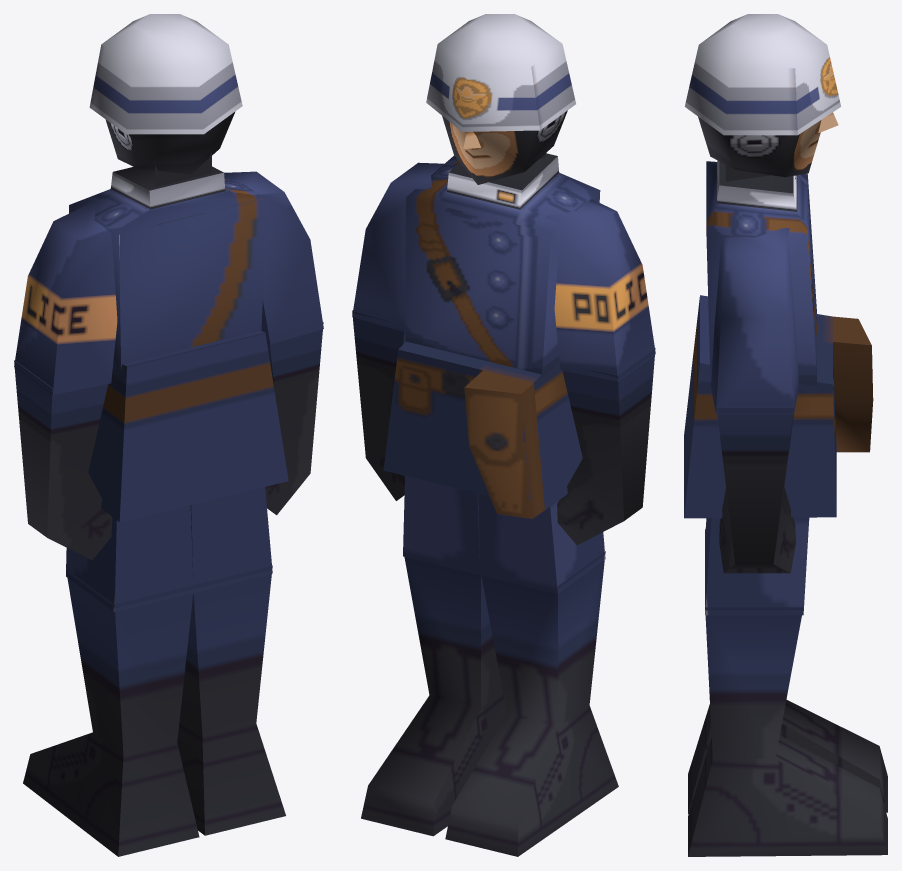
The model's file is Police_Man.obj.
The picture shows the model from 3 angles, left to right: view 1: azimuth 30°, elevation 25°; view 2: azimuth 150°, elevation 25°; view 3: azimuth 270°, elevation 25°; orthographic projection. The views are drawn at different scales.
Visible parts, largest first — view 1: Mesh; view 2: Mesh; view 3: Mesh.
Boxes of the visible parts, x1,y1,x2,y2 form: Mesh: (14,14,323,856); Mesh: (352,14,655,856); Mesh: (684,14,887,856).
Size of the model in its own units: 24.7 by 68.25 by 15.95.
1 material, 1 textured.
